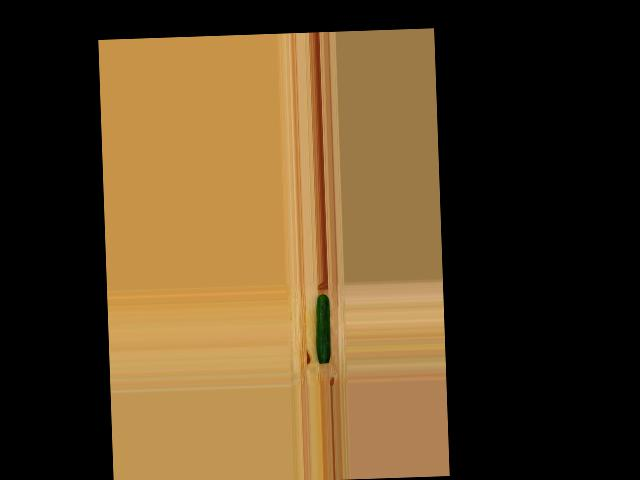cucumber: (315, 293, 331, 363)
